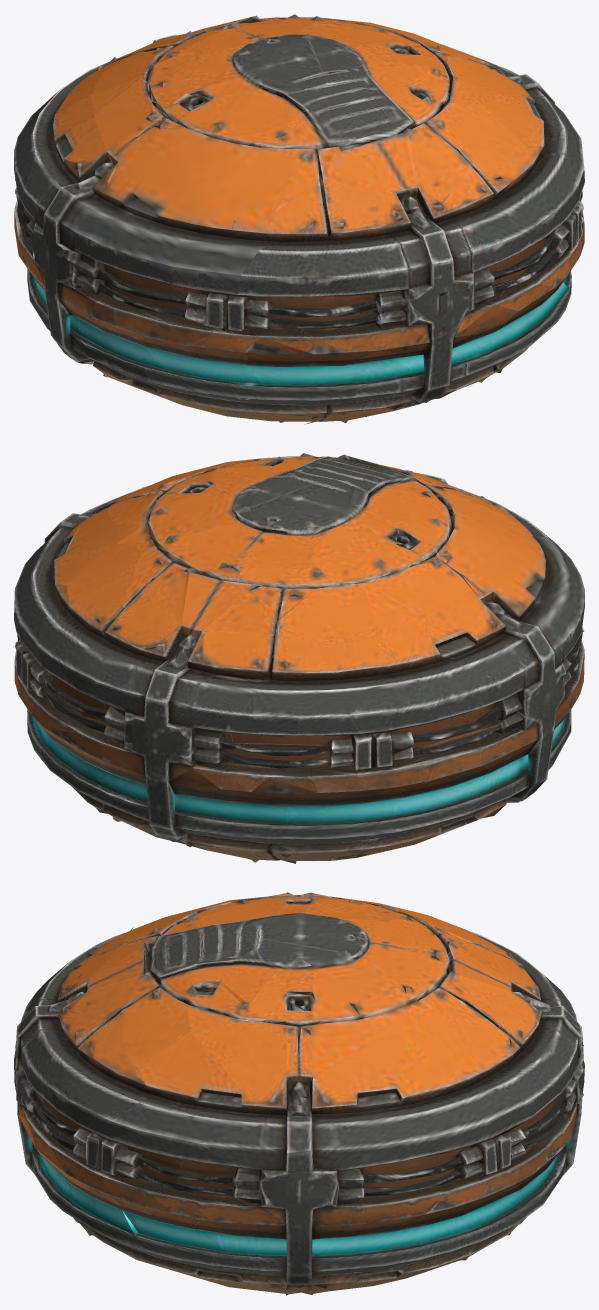
Rendered from hoverpod.glb.
3 views of the same model, one above another, from view 1: azimuth 30°, elevation 25°; view 2: azimuth 150°, elevation 25°; view 3: azimuth 270°, elevation 25° (orthographic).
Parts seen in each view (by area): view 1: Mesh_0; view 2: Mesh_0; view 3: Mesh_0.
Part boxes in pixels (<box>): Mesh_0: <box>14,14,584,424</box>; Mesh_0: <box>14,453,584,863</box>; Mesh_0: <box>14,892,584,1295</box>.
Bounding box in the file's own units: 0.5712 × 0.35 × 0.5714.
Materials: 1 (1 with a texture image).
